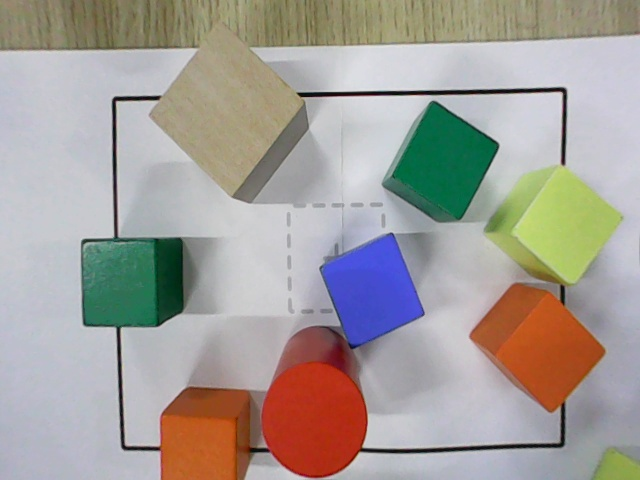upside of big cube: (146, 19, 306, 198)
upside of cylinder: (262, 362, 368, 478)
upside of small cube: (511, 165, 625, 287), (494, 292, 607, 415), (318, 232, 426, 351), (392, 101, 499, 221), (80, 238, 159, 327), (161, 415, 237, 479)
